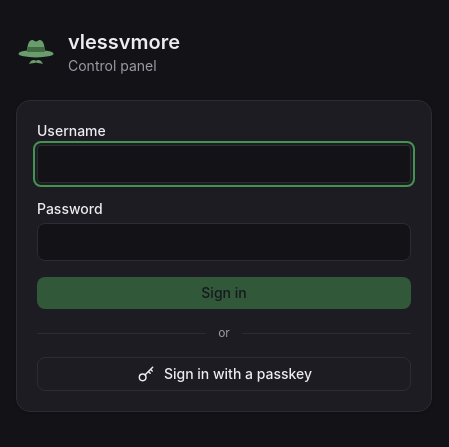
Test: LoginPage › reports a refused passkey without saying which part was wrong
Click the button "Sign in with a passkey" at (224, 374), box [37,357,411,391]
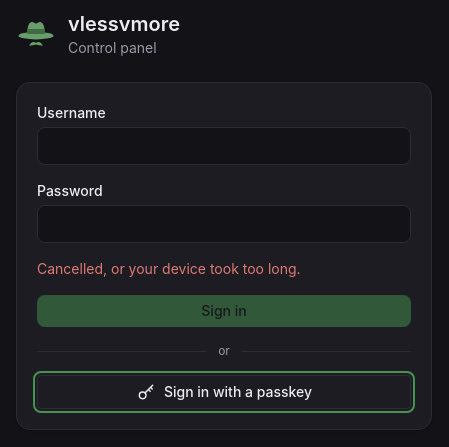
Expected: the text "Cancelled, or your device took too long." is shown, [37,260,301,277]
